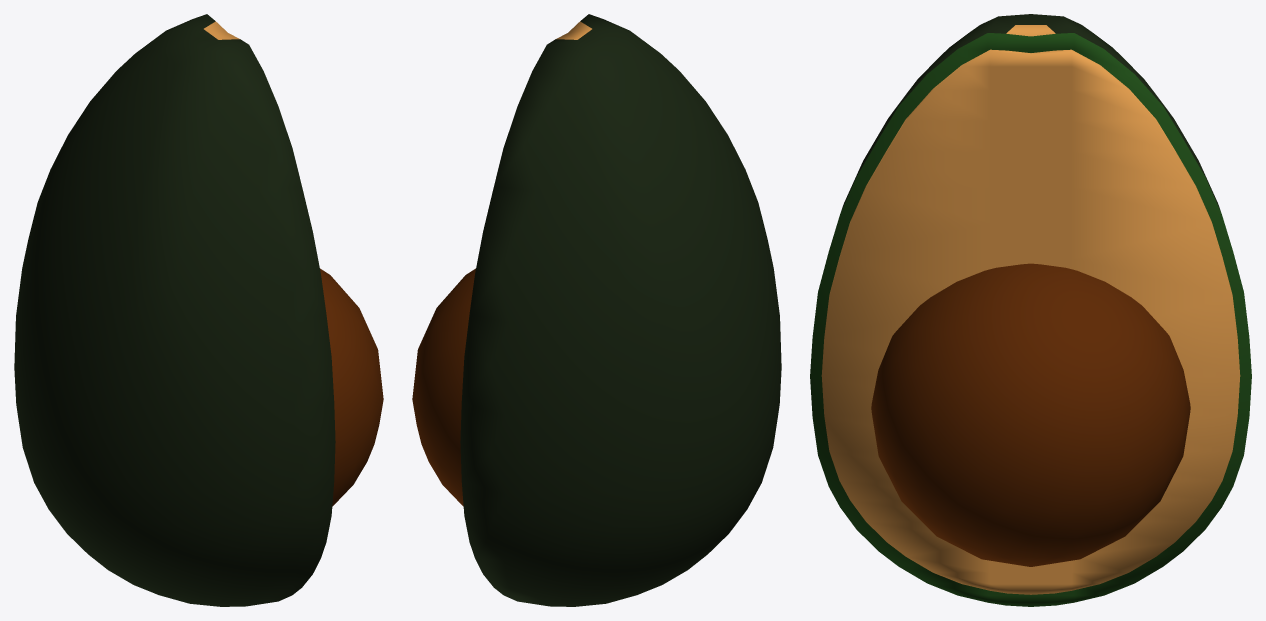
Rendered from avo_1_cut.fbx.
3 views of the same model, side by side, from view 1: azimuth 30°, elevation 25°; view 2: azimuth 150°, elevation 25°; view 3: azimuth 270°, elevation 25° (orthographic). The views are drawn at different scales.
Visible parts, largest first — view 1: avocado_1.001; view 2: avocado_1.001; view 3: avocado_1.001.
Boxes of the visible parts, x1,y1,x2,y2 form: avocado_1.001: [14, 14, 383, 606]; avocado_1.001: [412, 14, 781, 606]; avocado_1.001: [810, 14, 1251, 606].
Bounding box in the file's own units: 172 × 287 × 200.
